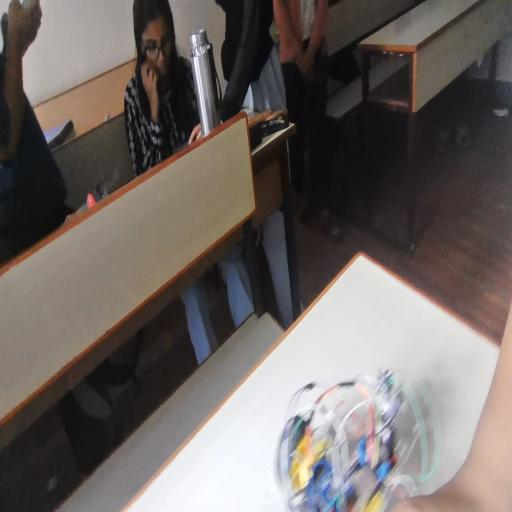car: (294, 338, 431, 512)
